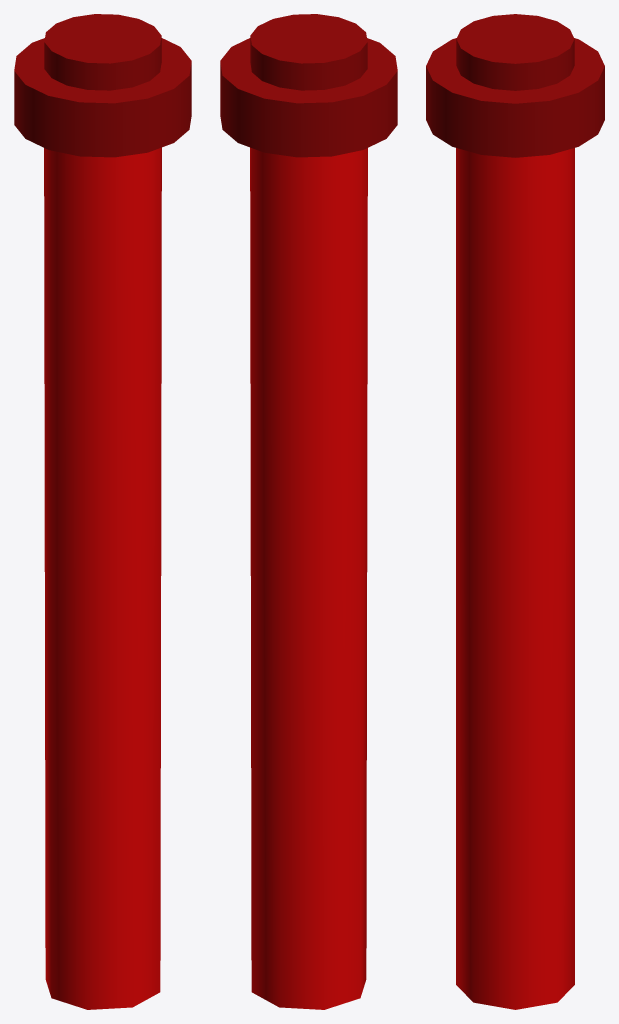
The model's file is SM_Actuator_1x1x6_Top.gltf.
3 views of the same model, side by side, from view 1: azimuth 30°, elevation 25°; view 2: azimuth 150°, elevation 25°; view 3: azimuth 270°, elevation 25° (orthographic).
Visible parts, largest first — view 1: SM_Actuator_1x1x6_Top; view 2: SM_Actuator_1x1x6_Top; view 3: SM_Actuator_1x1x6_Top.
Part boxes in pixels (box(x1,y1,x2,y2)): SM_Actuator_1x1x6_Top: box(14, 14, 191, 1009); SM_Actuator_1x1x6_Top: box(220, 14, 397, 1009); SM_Actuator_1x1x6_Top: box(426, 14, 604, 1009).
Bounding box in the file's own units: 0.3 × 1.75 × 0.3.
